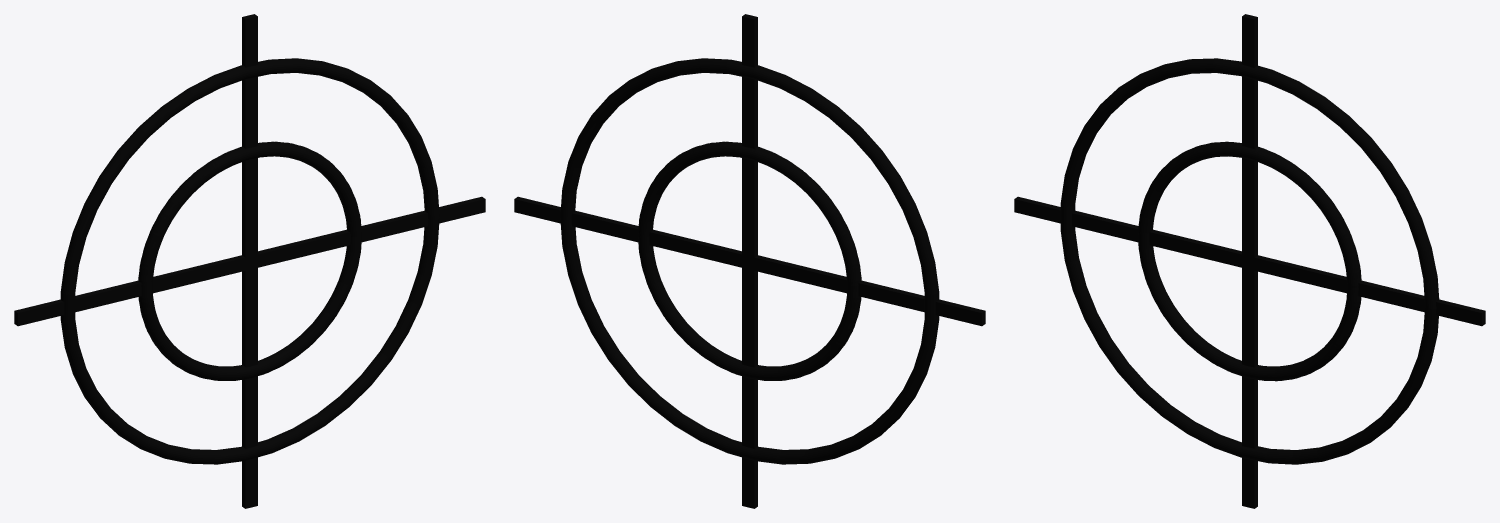
The model's file is aim.obj.
3 views of the same model, side by side, from view 1: azimuth 30°, elevation 25°; view 2: azimuth 150°, elevation 25°; view 3: azimuth 330°, elevation 25° (orthographic).
Parts seen in each view (by area): view 1: Torus.006; view 2: Torus.006; view 3: Torus.006.
Boxes of the visible parts, box(x1,y1,x2,y2) form: Torus.006: box(14, 14, 485, 508); Torus.006: box(514, 14, 985, 508); Torus.006: box(1014, 14, 1485, 508).
Bounding box in the file's own units: 2.95 × 2.95 × 0.0798.
Materials: 1 (1 with a texture image).
